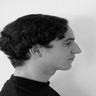ear: (25, 39, 47, 62)
